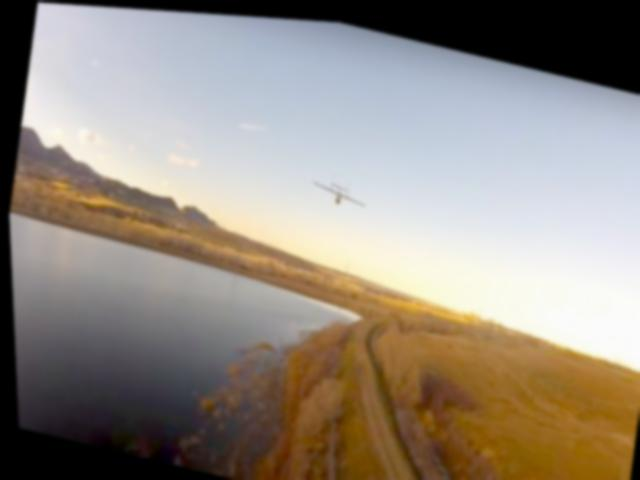uav: (307, 166, 368, 206)
